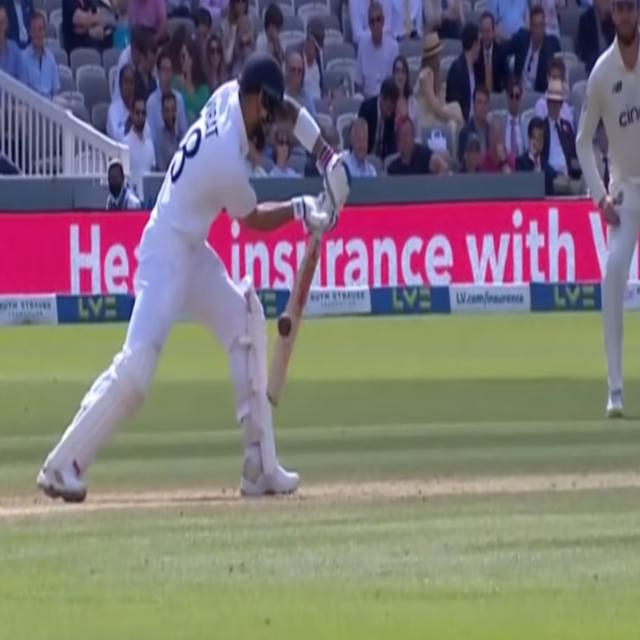ball: (273, 309, 298, 343)
